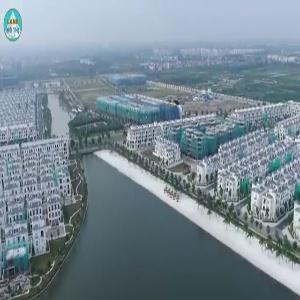drone: (161, 86, 194, 119)
